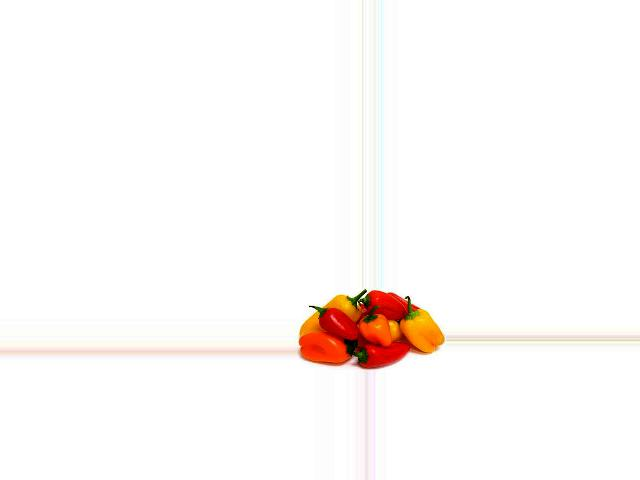bell_pepper: (300, 291, 361, 335)
